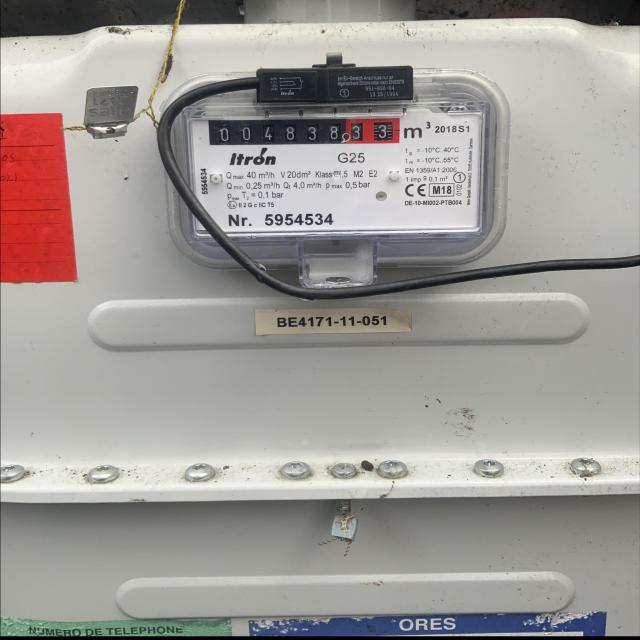gaz_meter: (184, 106, 481, 235)
indication: (208, 117, 401, 146)
